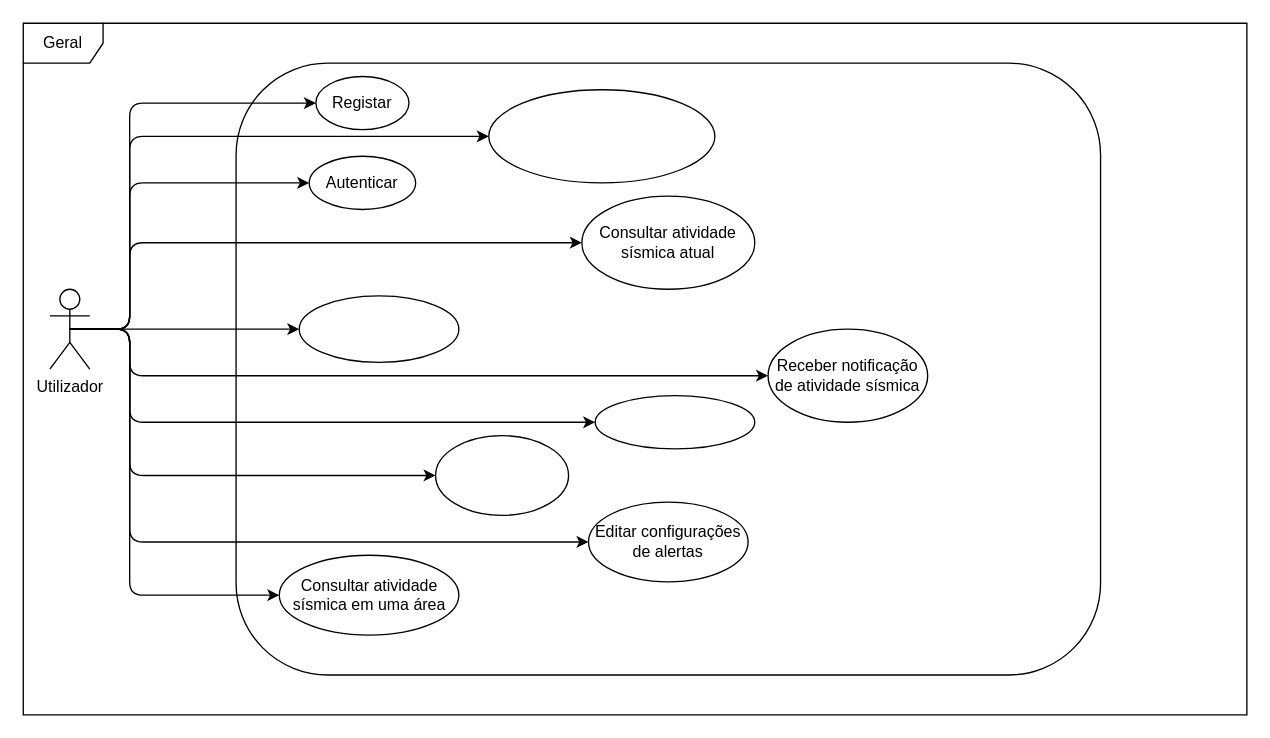
The diagram is 1270 pixels wide and 738 high, and some of its shapes have lost their labels. The shapes that lost their labels are listed below. From the top down, each one's box as (x1, y1, x2, y2) in pixels, then its label:
(487, 88, 715, 183): Consultar o nível de segurança de uma área
(298, 295, 459, 362): Informar localização
(594, 394, 755, 449): Editar informação pessoal
(434, 434, 569, 515): Consultar menu de ajuda
